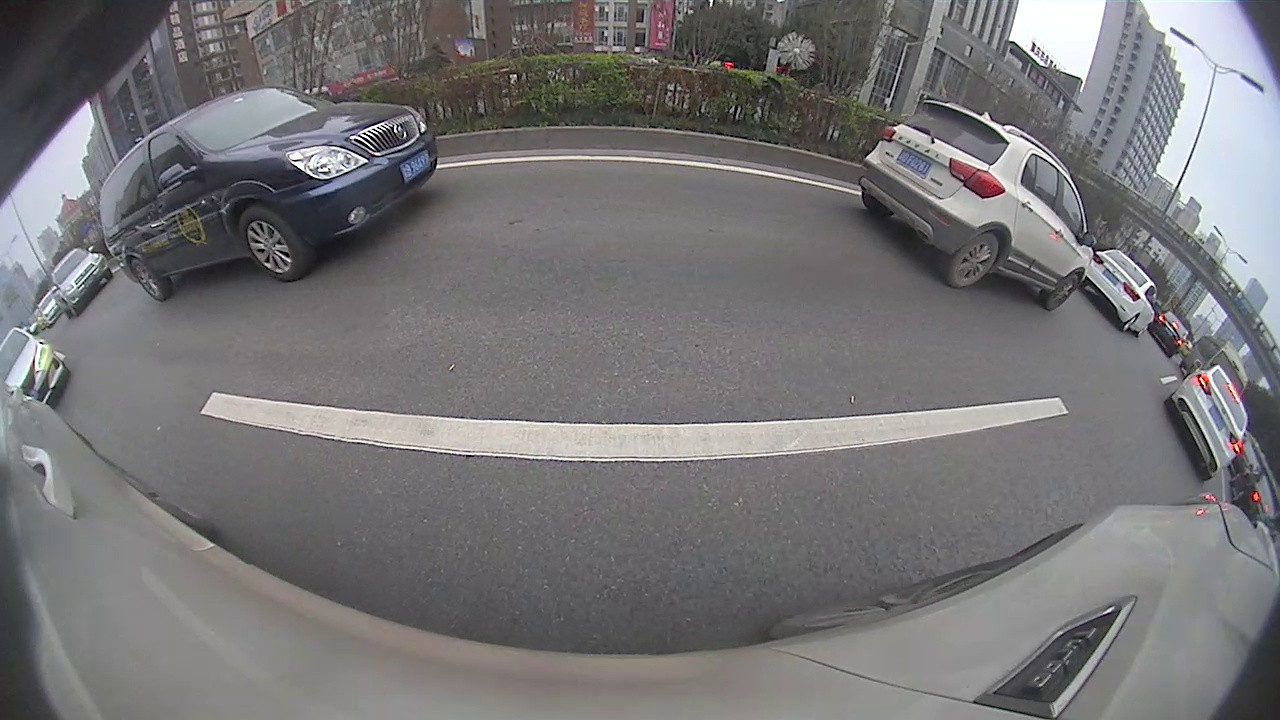car: (1105, 262, 1234, 354), (275, 182, 405, 272), (904, 181, 1018, 248), (1017, 210, 1098, 270), (691, 148, 773, 202), (808, 170, 861, 199)
front: (320, 229, 348, 259), (1116, 276, 1135, 299), (908, 204, 921, 221)
rear: (1182, 316, 1204, 343), (389, 209, 411, 232), (955, 216, 971, 239), (1056, 245, 1070, 265), (705, 176, 717, 196)
rider: (778, 160, 802, 193)
